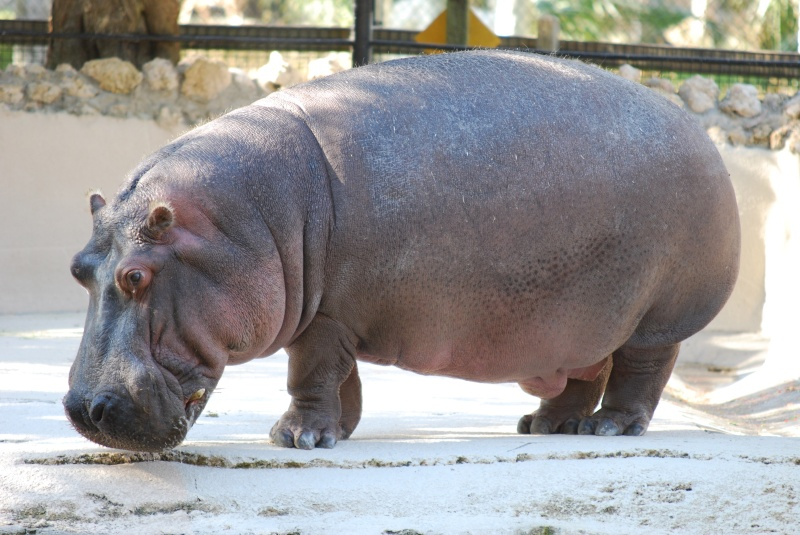hipopotamo: (62, 46, 748, 466)
